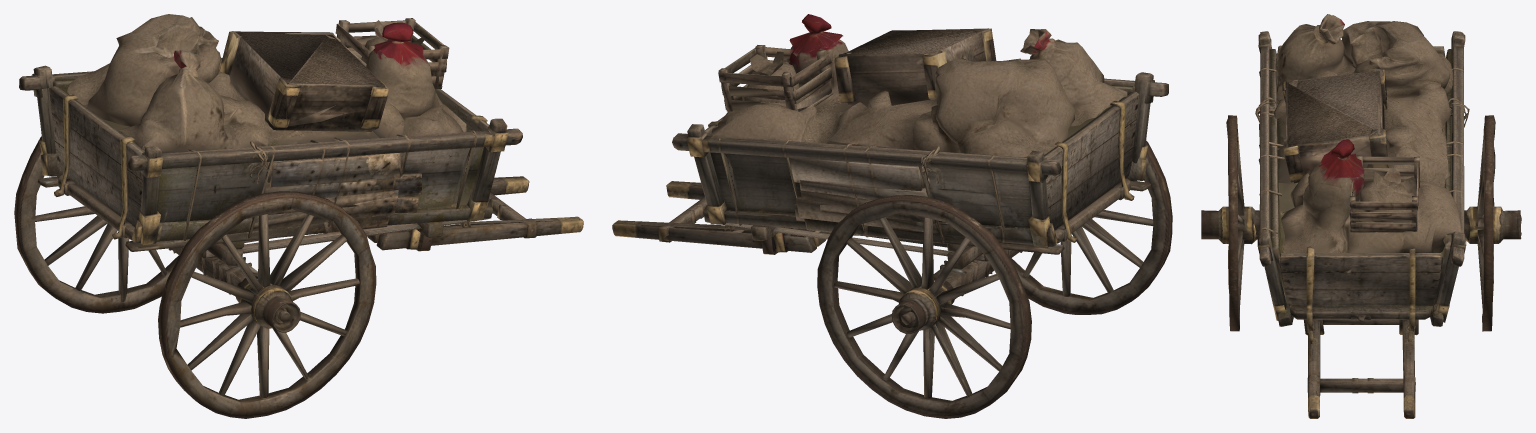
File: vil-cart.glb
3 views of the same model, side by side, from view 1: azimuth 30°, elevation 25°; view 2: azimuth 150°, elevation 25°; view 3: azimuth 270°, elevation 25° (orthographic). The views are drawn at different scales.
Size of the model in its own units: 0.9351 by 0.6177 by 0.6108.
1 material, 1 textured.
